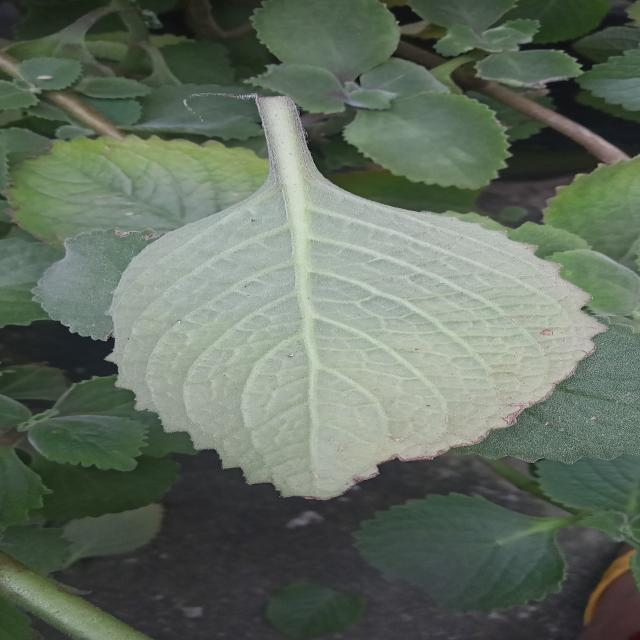Oregano: (59, 160, 640, 529)
